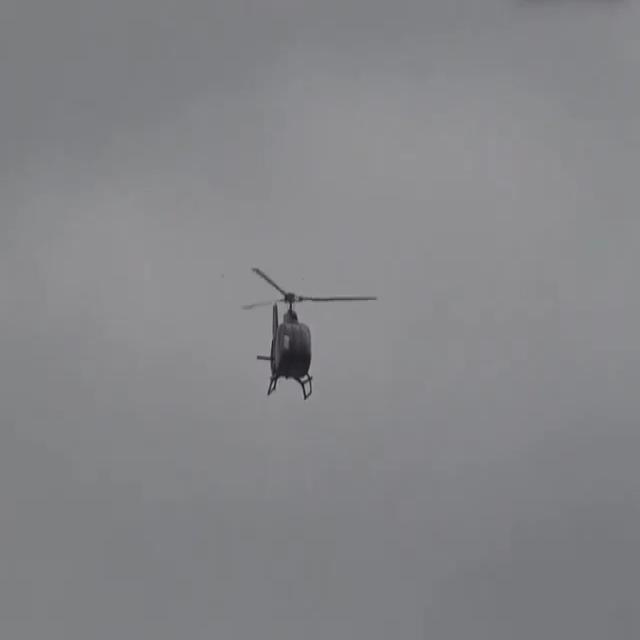Helicopter: (204, 221, 378, 431)
